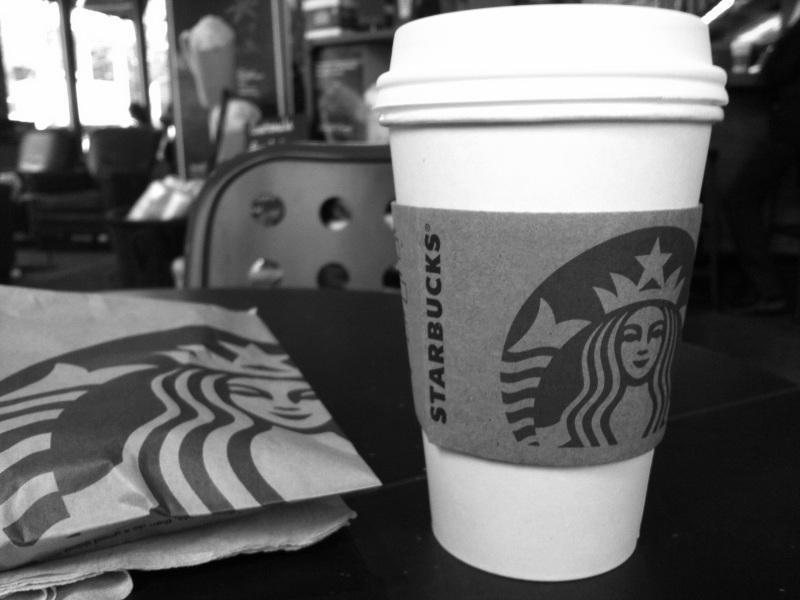cup-disposable: (368, 3, 731, 584)
